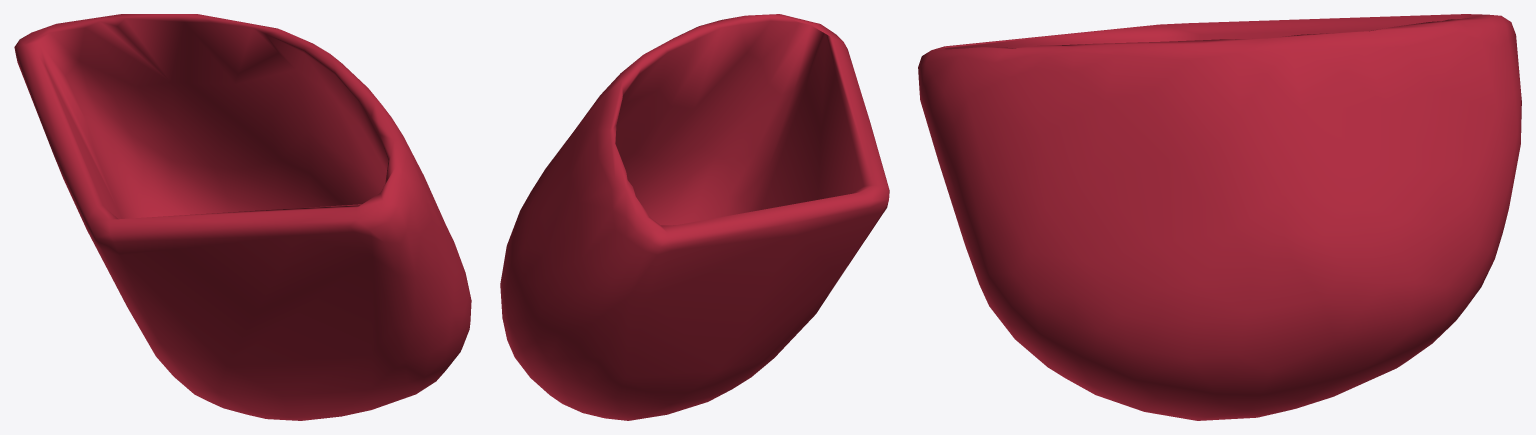
Rendered from left-coronary-leaflet.glb.
3 renders of one model, left to right at view 1: azimuth 30°, elevation 25°; view 2: azimuth 150°, elevation 25°; view 3: azimuth 270°, elevation 25°, orthographic. The views are drawn at different scales.
Parts seen in each view (by area): view 1: Left coronary leaflet; view 2: Left coronary leaflet; view 3: Left coronary leaflet.
Boxes of the visible parts, x1,y1,x2,y2 form: Left coronary leaflet: (14,14,471,420); Left coronary leaflet: (500,14,889,420); Left coronary leaflet: (918,14,1521,420).
Bounding box in the file's own units: 0.0148 × 0.014 × 0.0204.
